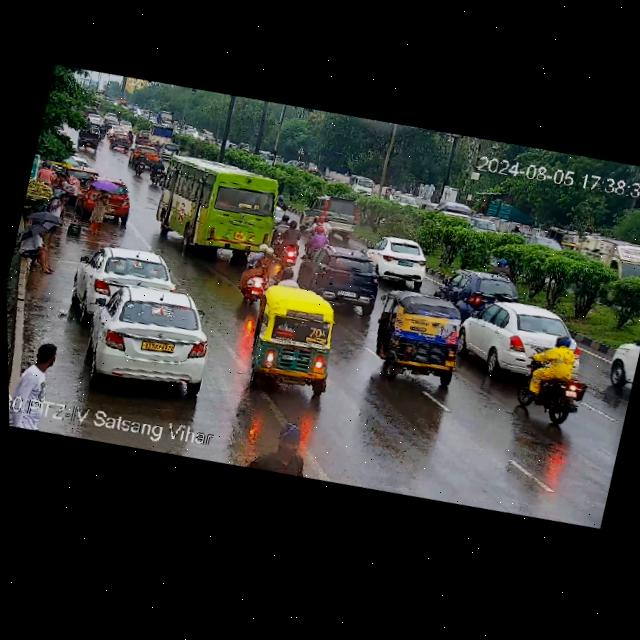bus: (142, 139, 289, 267)
car: (67, 268, 221, 403), (454, 288, 585, 390), (365, 281, 480, 394), (238, 281, 344, 400), (74, 235, 180, 316), (294, 234, 388, 314), (71, 169, 143, 234), (362, 228, 436, 289), (438, 261, 517, 317), (298, 186, 364, 240), (602, 326, 640, 401), (74, 118, 108, 154), (66, 152, 101, 181), (128, 142, 162, 163), (107, 129, 132, 153), (158, 139, 176, 160), (106, 123, 121, 140), (102, 109, 118, 122), (116, 119, 132, 132), (136, 128, 149, 142), (88, 112, 101, 122)
motorcycle: (509, 328, 597, 432), (243, 239, 301, 294), (270, 209, 310, 266), (309, 211, 336, 242), (147, 155, 168, 187), (129, 151, 150, 179), (97, 124, 109, 142), (125, 129, 133, 146), (171, 145, 181, 158)
person: (239, 413, 331, 486), (13, 343, 62, 405), (16, 222, 65, 273), (81, 179, 116, 229), (38, 159, 72, 191), (43, 186, 72, 216)
truck: (146, 120, 173, 146)
